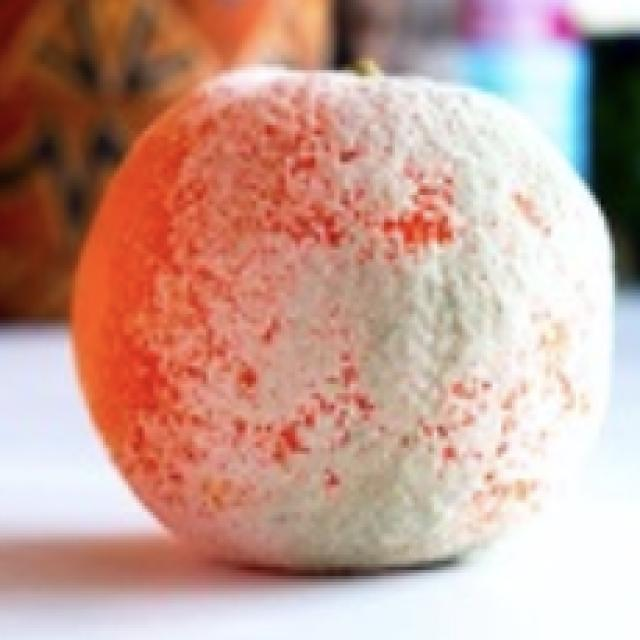sangat-busuk: (73, 68, 612, 568)
